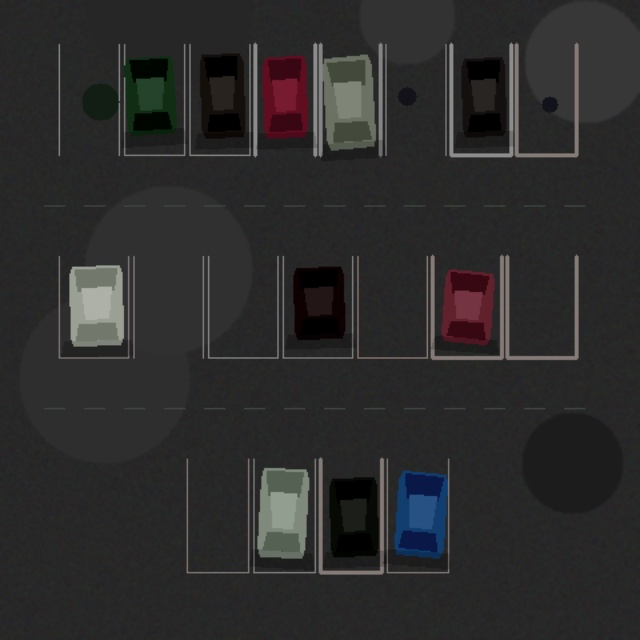space-empty: (133, 256, 203, 357), (357, 256, 427, 357), (208, 256, 277, 357), (507, 256, 576, 357), (187, 459, 248, 572), (59, 44, 119, 155), (385, 44, 445, 155), (516, 44, 576, 155)
space-occupied: (253, 459, 315, 572), (59, 256, 128, 357), (283, 256, 352, 357), (432, 256, 501, 357), (320, 459, 381, 572), (387, 459, 448, 572), (124, 44, 184, 155), (189, 44, 249, 155), (255, 44, 315, 155), (320, 44, 380, 155), (451, 44, 511, 155)
